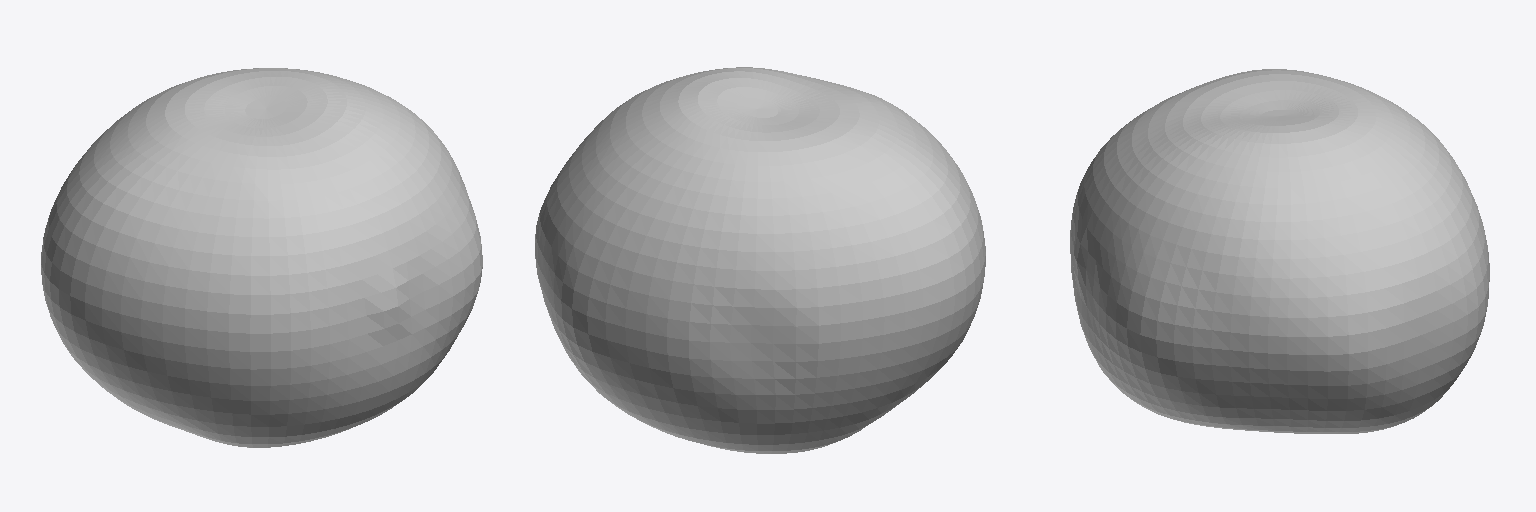
File: DactylUVMapped.obj
3 renders of one model, left to right at view 1: azimuth 30°, elevation 25°; view 2: azimuth 150°, elevation 25°; view 3: azimuth 270°, elevation 25°, orthographic.
Parts seen in each view (by area): view 1: Sphere; view 2: Sphere; view 3: Sphere.
Part boxes in pixels (left/top/right/bottom): Sphere: left=41, top=68, right=482, bottom=447; Sphere: left=535, top=67, right=985, bottom=453; Sphere: left=1070, top=69, right=1489, bottom=433.
Size of the model in its own units: 2.21 by 1.64 by 2.03.